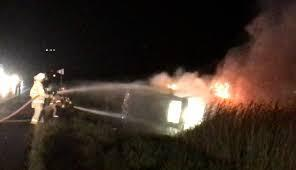fire: (200, 65, 244, 114)
